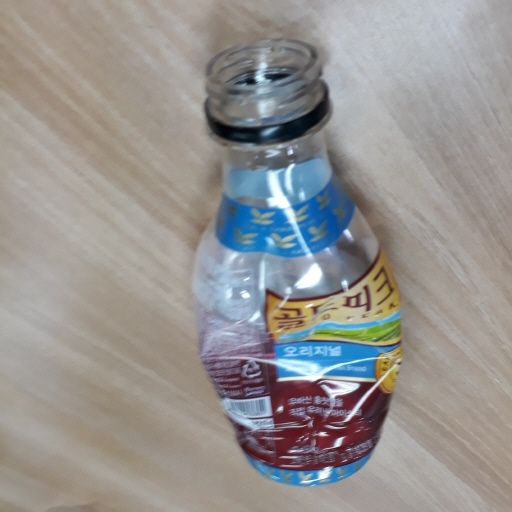Plastic_0: (186, 38, 403, 486)
